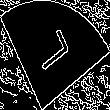L_SW: (34, 29, 76, 81)
